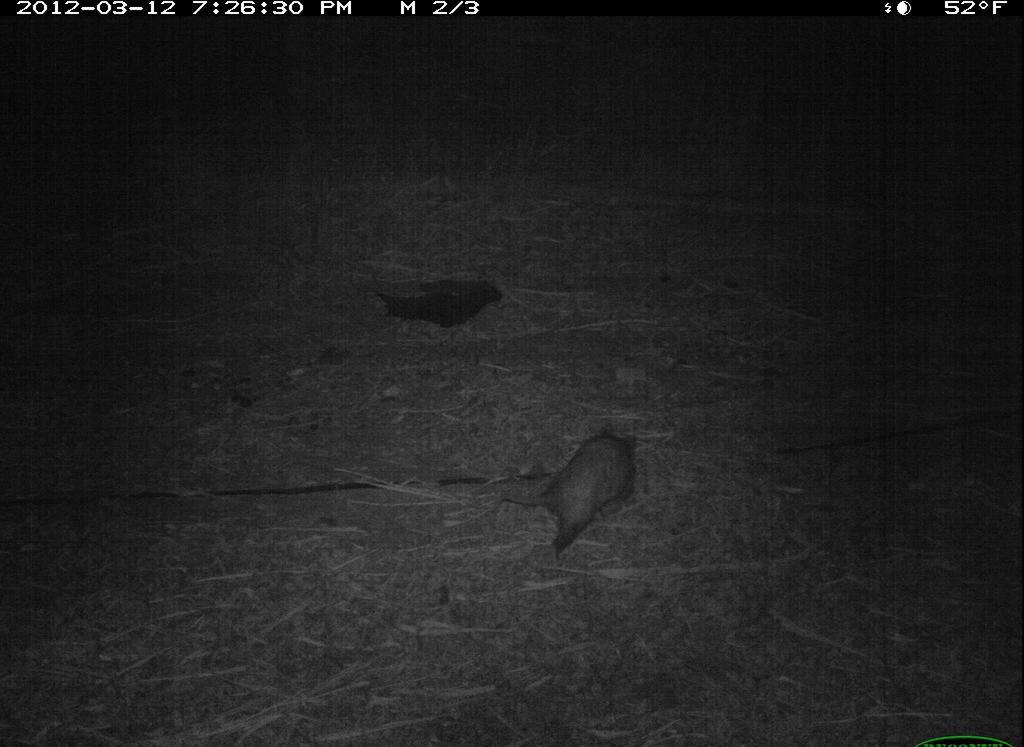opossum: (484, 417, 651, 568)
